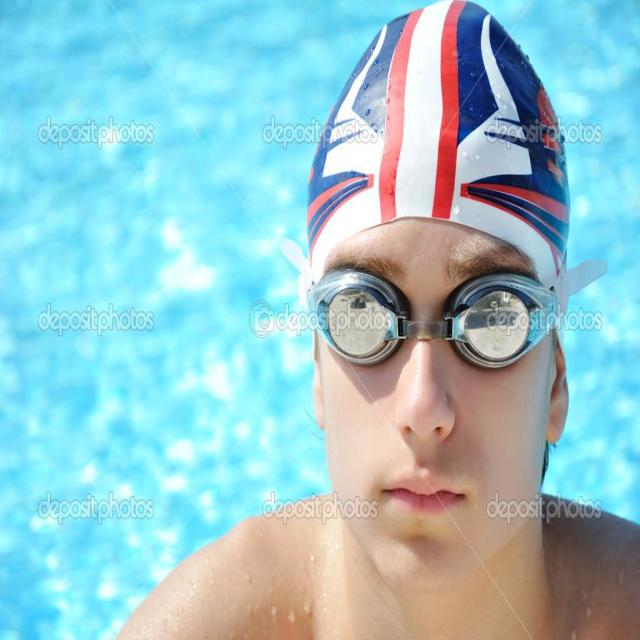Face: (307, 214, 567, 581)
